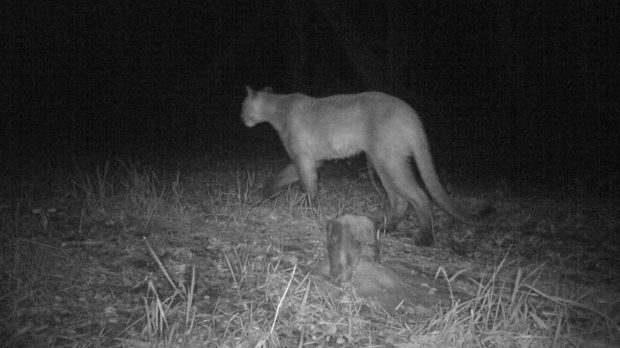mountain lion: (227, 68, 493, 238)
